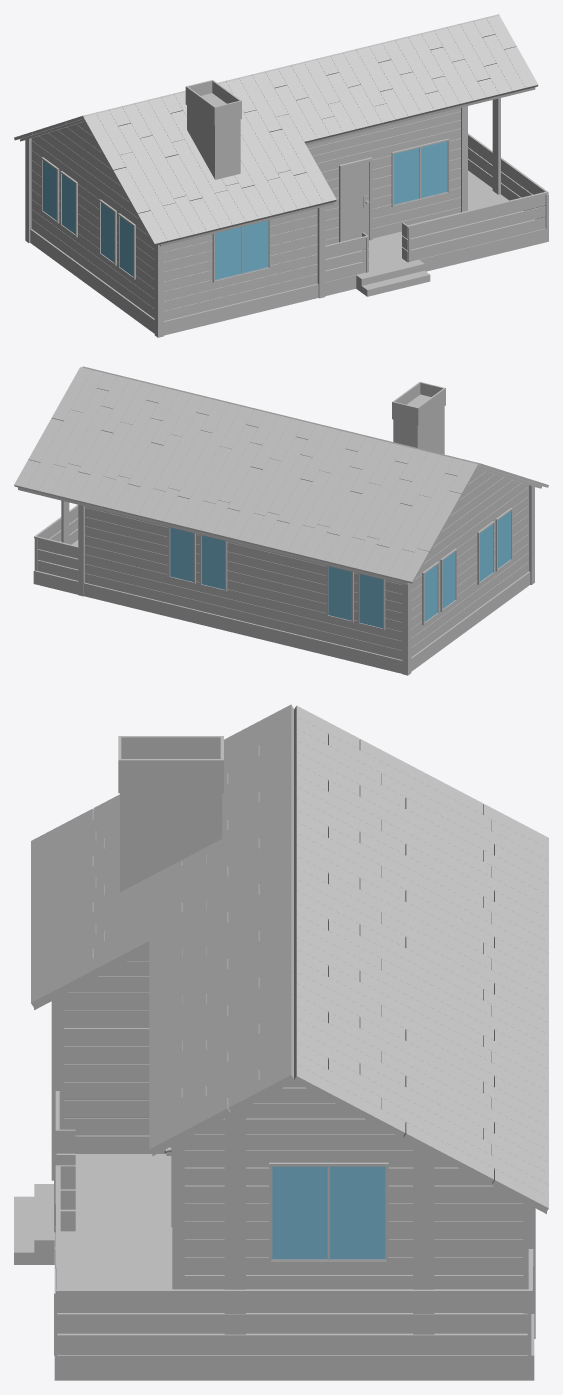
The model's file is House_05.gltf.
3 views of the same model, one above another, from view 1: azimuth 30°, elevation 25°; view 2: azimuth 150°, elevation 25°; view 3: azimuth 270°, elevation 25° (orthographic). The views are drawn at different scales.
Parts seen in each view (by area): view 1: Hous_05; view 2: Hous_05; view 3: Hous_05.
Boxes of the visible parts, x1,y1,x2,y2 form: Hous_05: (14,14,548,337); Hous_05: (14,366,548,675); Hous_05: (14,704,548,1380).
Size of the model in its own units: 12.83 by 5.84 by 7.81.
